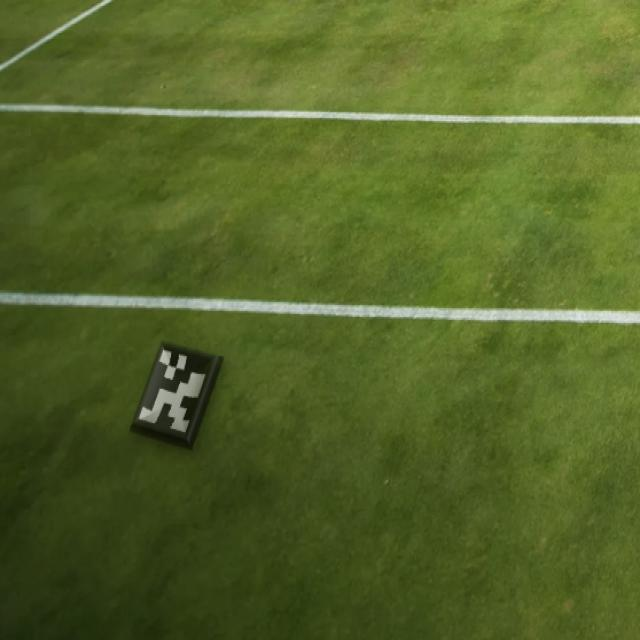marker: (123, 332, 231, 453)
